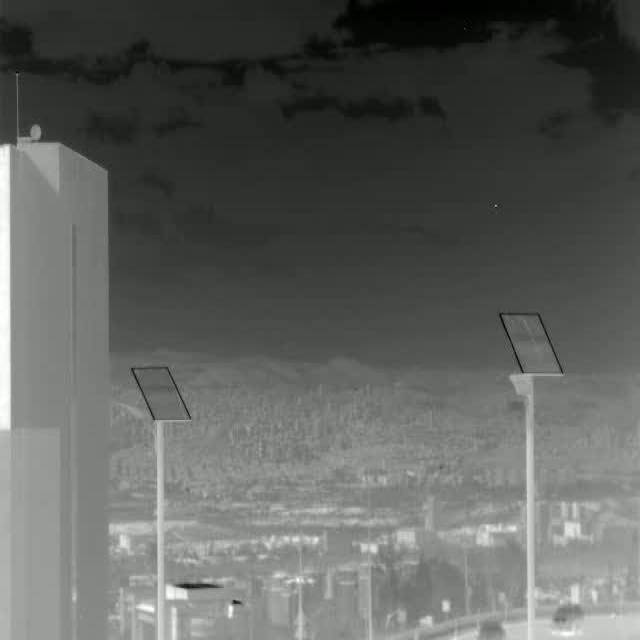Car: (550, 603, 584, 637), (476, 616, 508, 640)
